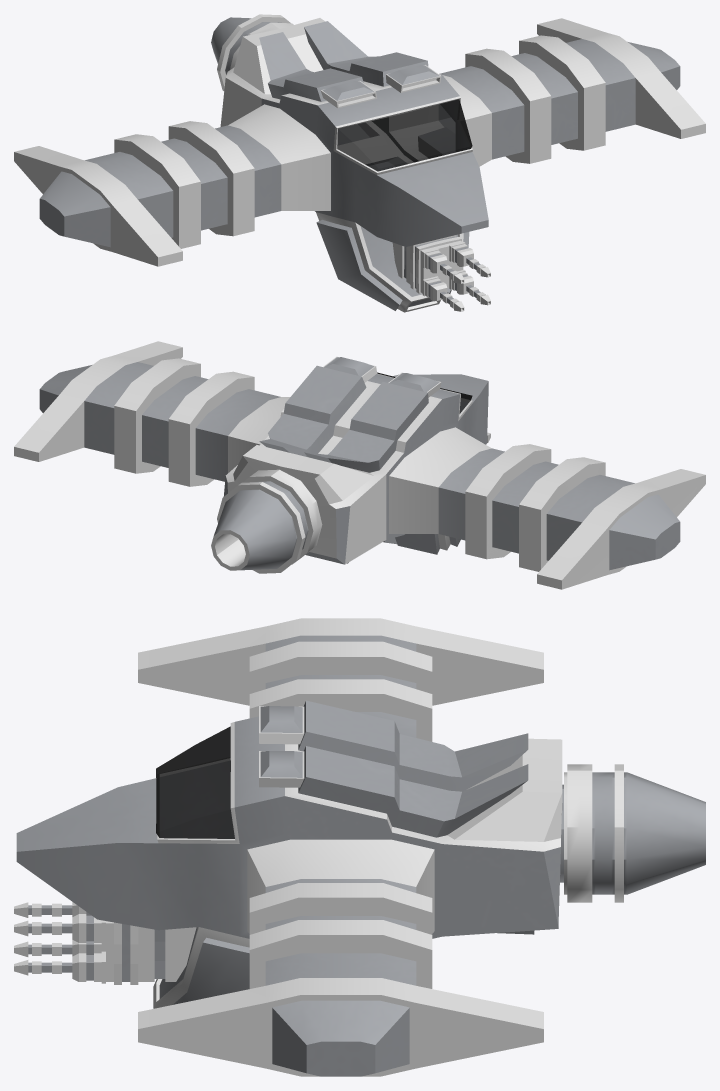
Rendered from CCC.fbx.
The picture shows the model from 3 angles, top to bottom: view 1: azimuth 30°, elevation 25°; view 2: azimuth 150°, elevation 25°; view 3: azimuth 270°, elevation 25°; orthographic projection. The views are drawn at different scales.
Parts seen in each view (by area): view 1: CCC; view 2: CCC; view 3: CCC.
Part boxes in pixels (bbox=[...]): CCC: bbox=[14, 14, 705, 312]; CCC: bbox=[14, 341, 705, 589]; CCC: bbox=[14, 618, 705, 1076].
Size of the model in its own units: 8.9 by 2.8 by 6.14.
